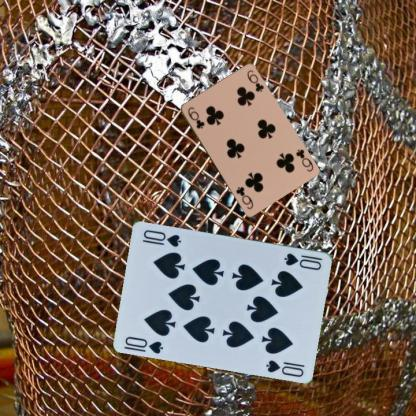10s: (282, 250, 324, 272), (122, 333, 164, 355)
6c: (293, 146, 314, 173), (185, 104, 206, 130)
